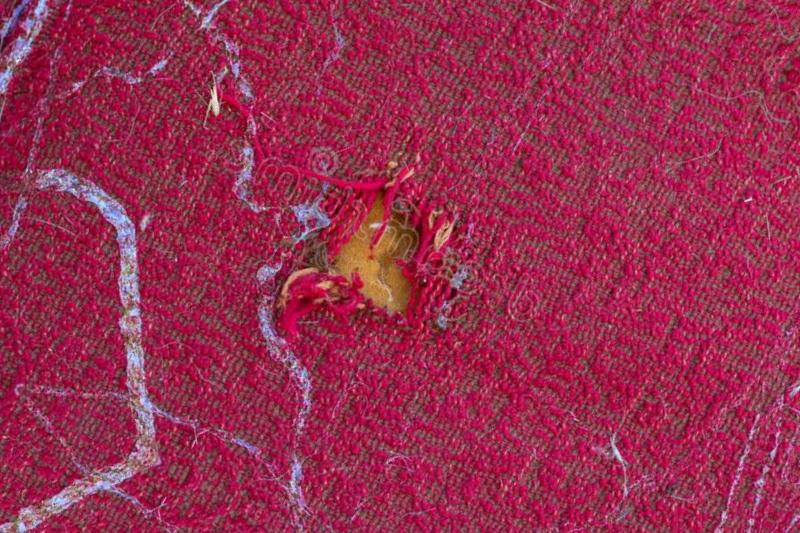hole: (320, 177, 442, 338)
